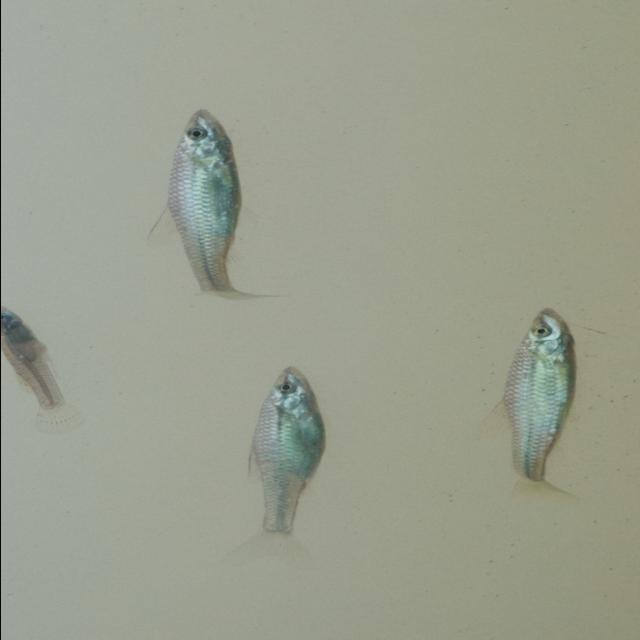Cakil Baligi: (142, 109, 298, 305), (210, 366, 330, 574), (473, 306, 588, 512), (2, 308, 100, 450)
